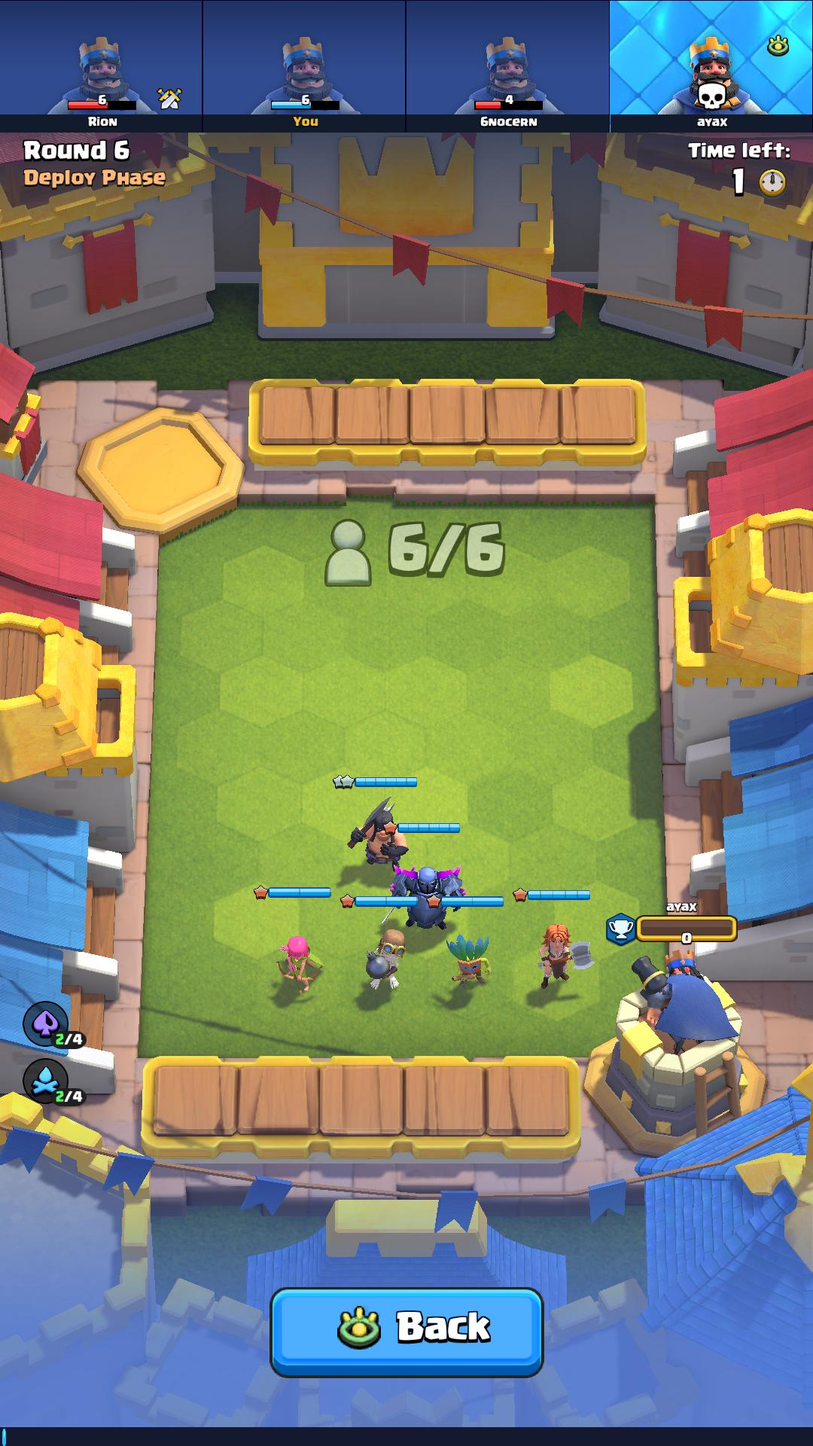archer: (267, 928, 325, 996)
bomber: (350, 924, 412, 993)
dart: (442, 926, 502, 995)
executioner: (339, 797, 410, 867)
pekka: (381, 859, 466, 932)
valkyrie: (530, 919, 598, 994)
